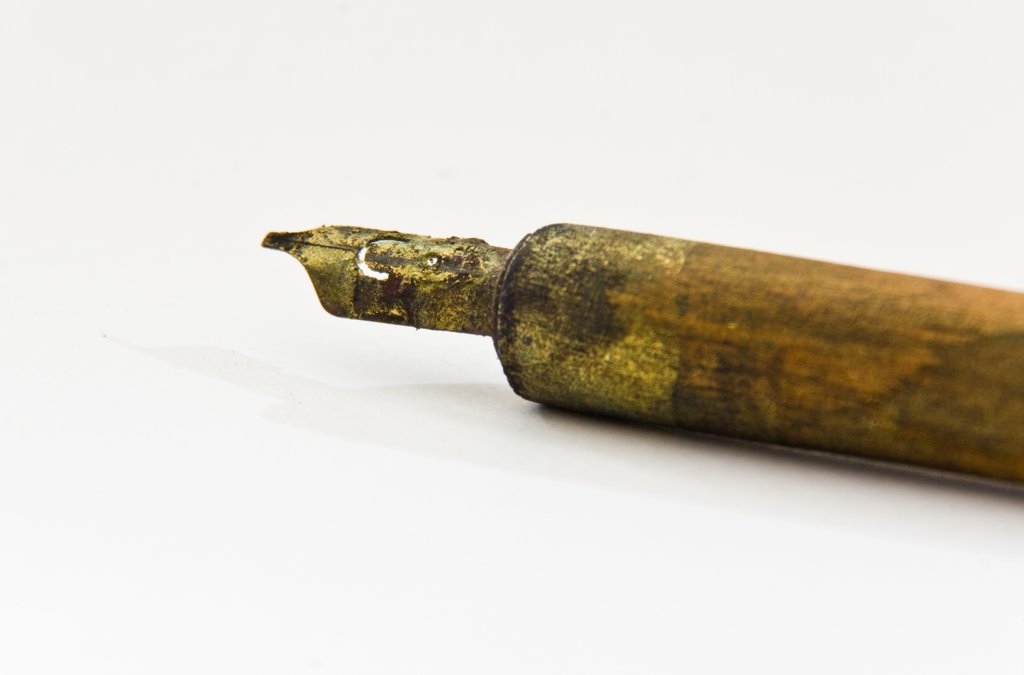Pen: (276, 236, 1023, 500)
